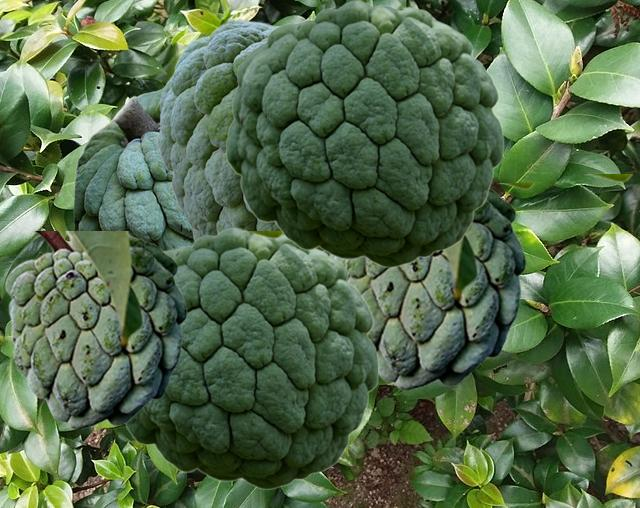atis: (225, 0, 503, 267), (126, 227, 378, 489), (336, 174, 631, 390), (4, 231, 283, 429), (157, 19, 281, 241), (73, 87, 193, 249)
